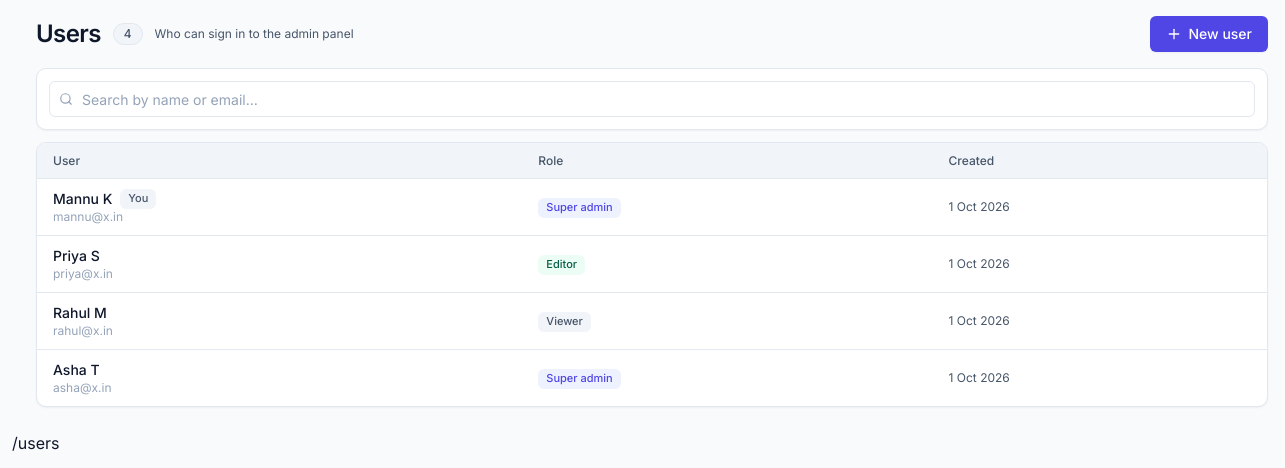
Test: Users page › search filters by name or email once typing pauses, without refetching
Expected: the text "Priya S" is shown, [53, 246, 100, 266]
Step 1. Type "rahul@" into the search field named "Search users" → (652, 99), box [49, 81, 1255, 117]
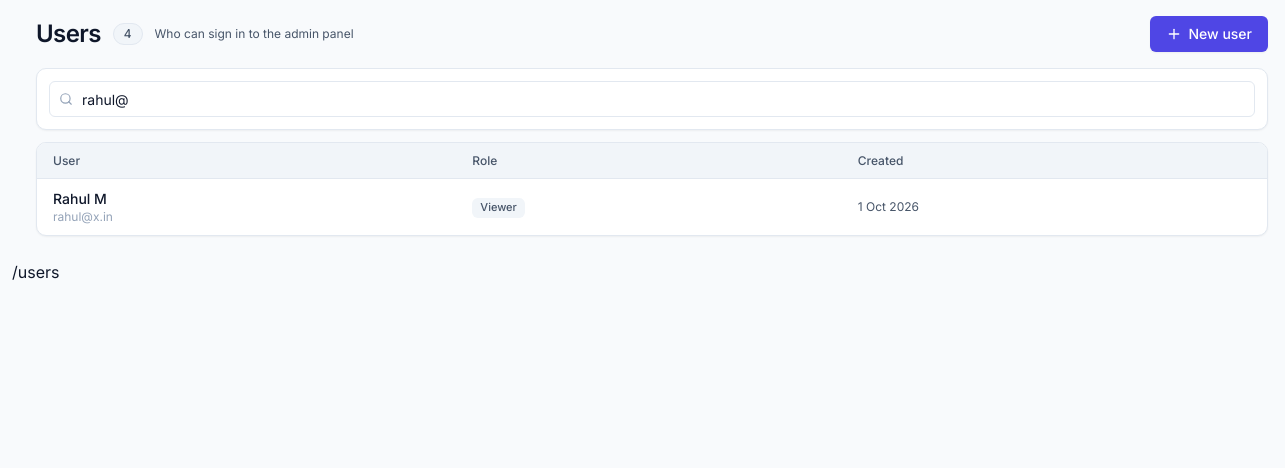
Expected: the text "Rahul M" is shown, [53, 189, 107, 209]
Result: the text "Priya S" is gone
